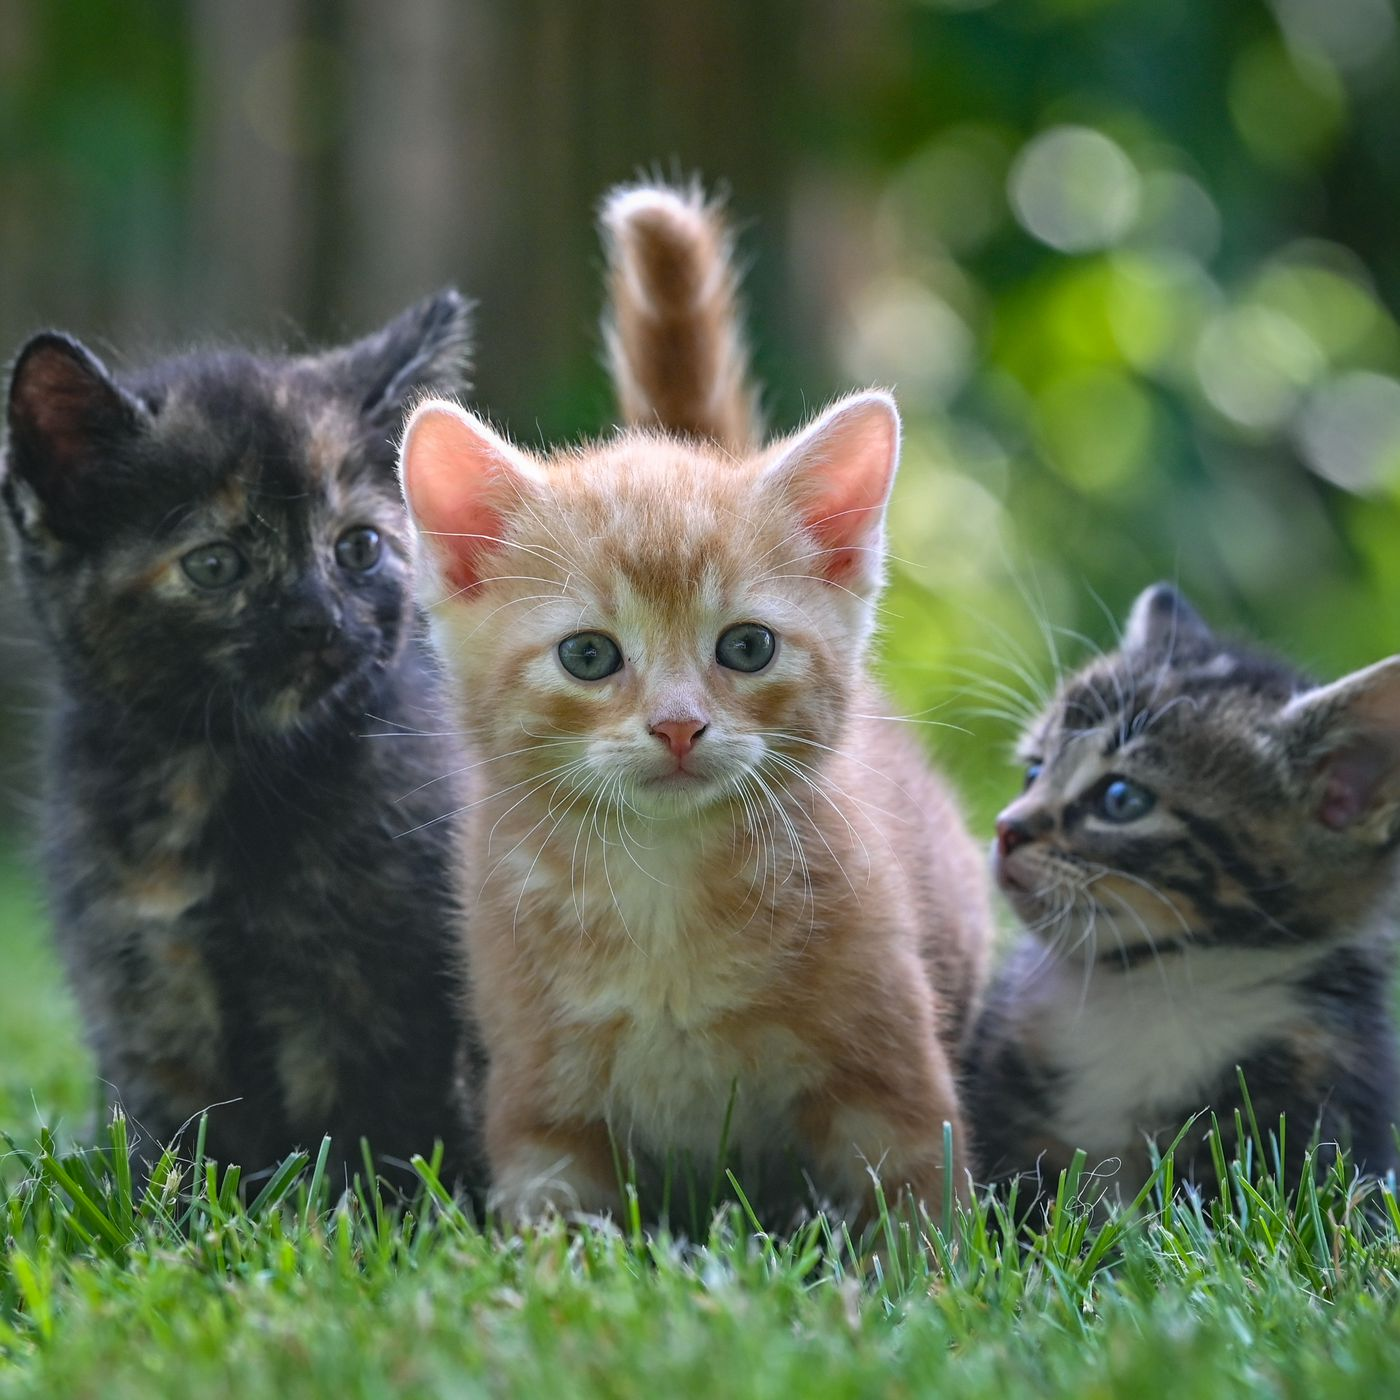Cat: (387, 353, 959, 1247), (1, 240, 488, 1201), (972, 540, 1400, 1156)
